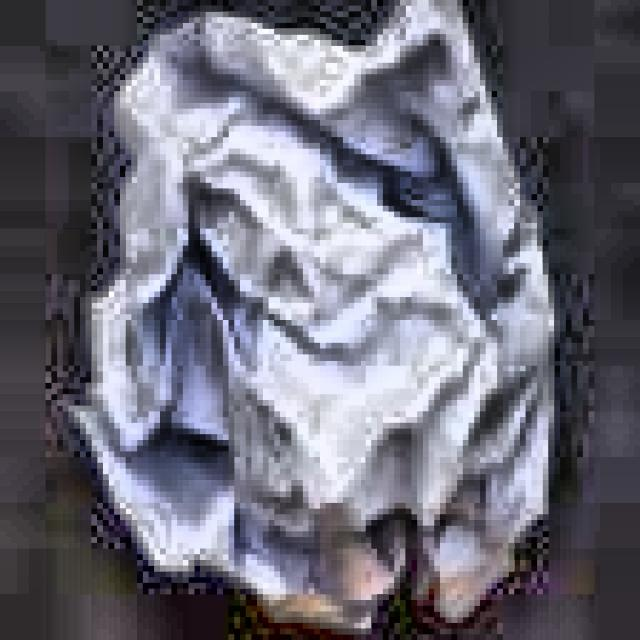paper: (70, 0, 557, 640)
